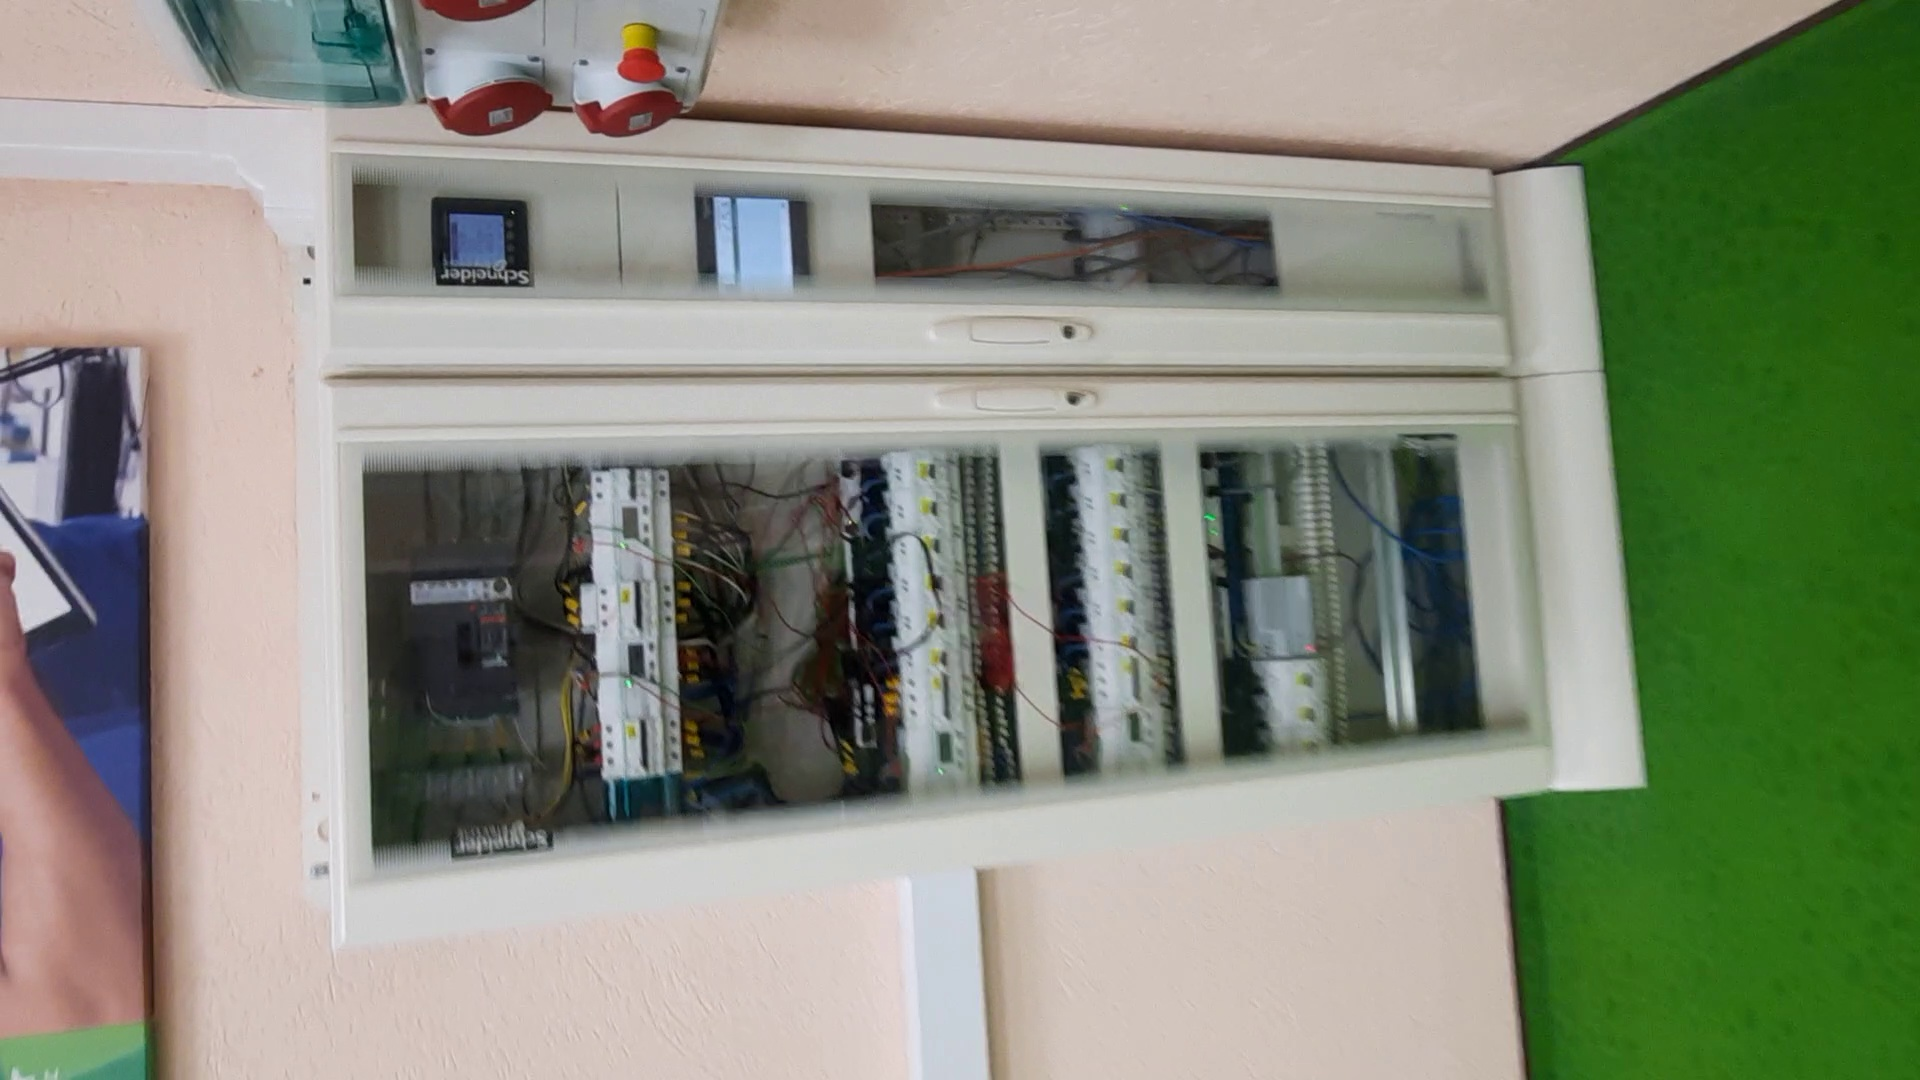stand1: (310, 121, 1654, 960)
